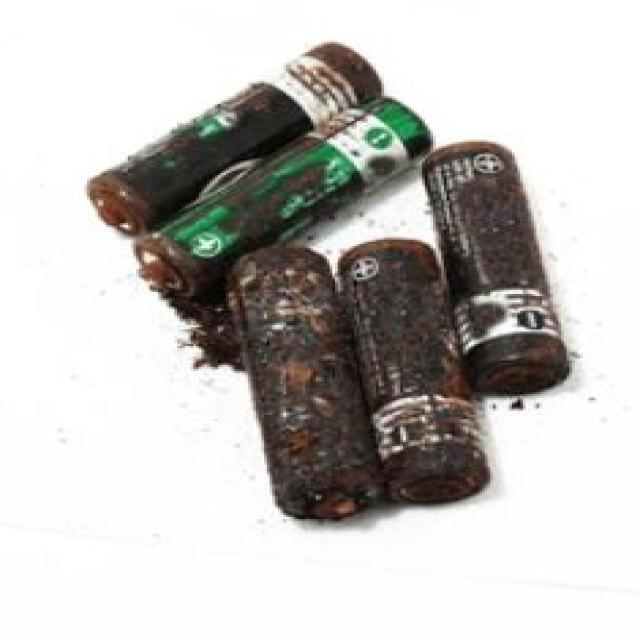electronic: (48, 24, 452, 314)
